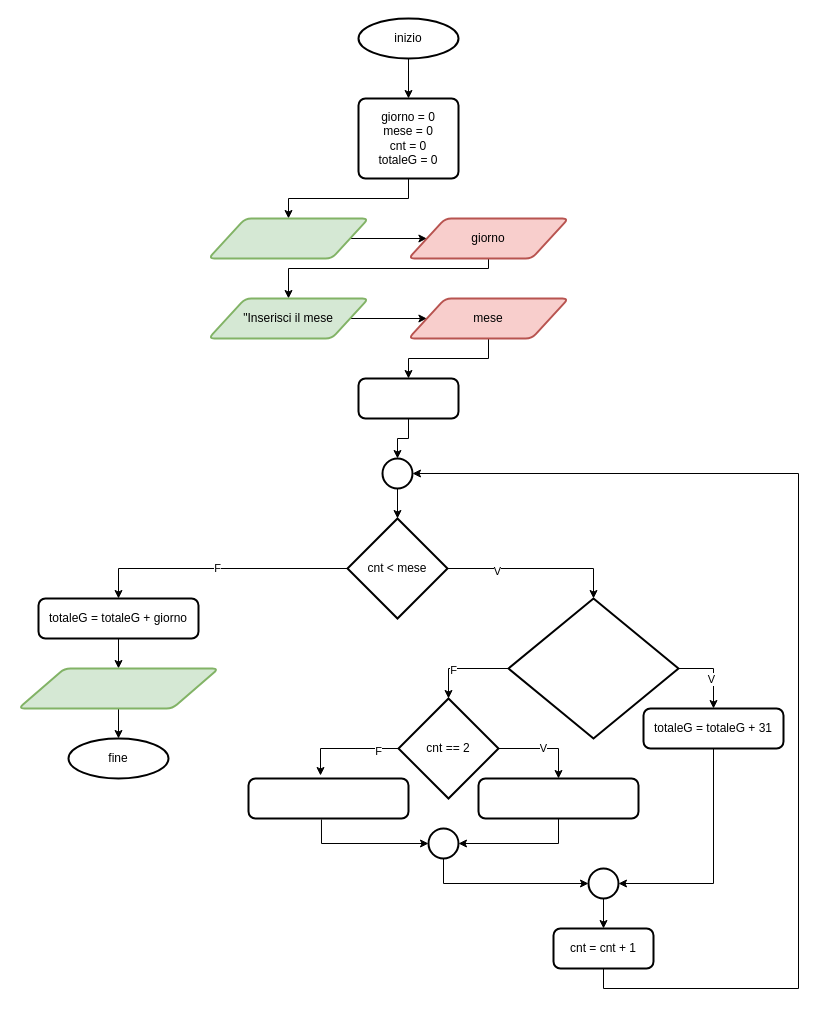
This 824x1014 diagram has some shape labels left out. The shapes that lost their labels are listed below. From the top down, each one's centre as x and y in pixels, then its label:
point (288, 238): "Inserisci il giorno
point (408, 398): cnt = 1
point (118, 688): "Giorni totali: "+totaleG
point (593, 668): cnt==1 o cnt==3 o cnt == 5 o cnt == 7 o cnt == 8 o cnt == 10
point (328, 798): totaleG = totaleG + 30
point (558, 798): totaleG = totaleG + 28
